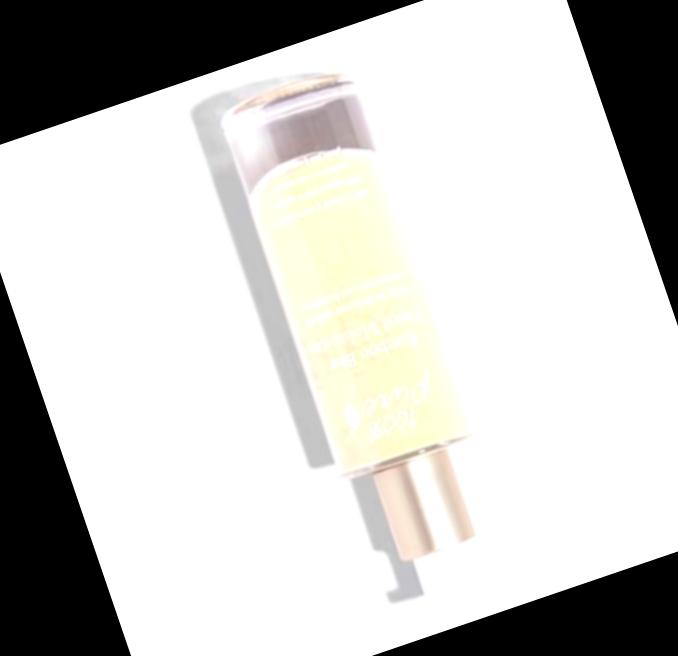cosmetic: (217, 71, 528, 622)
